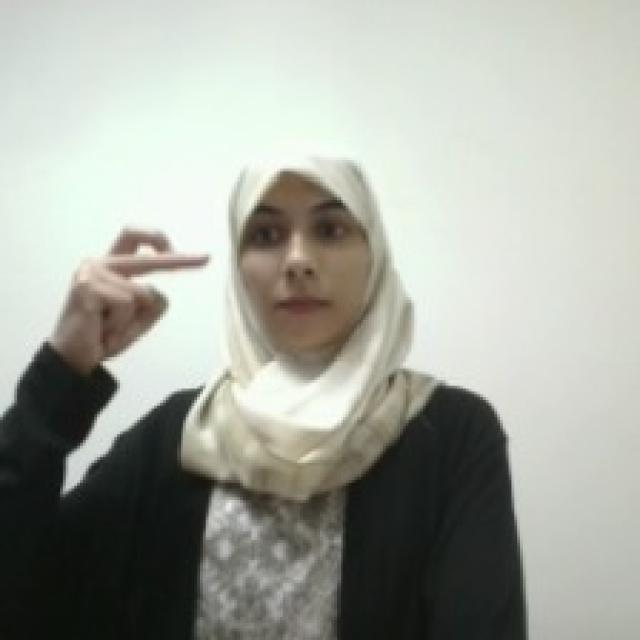sunday: (52, 216, 214, 362)
